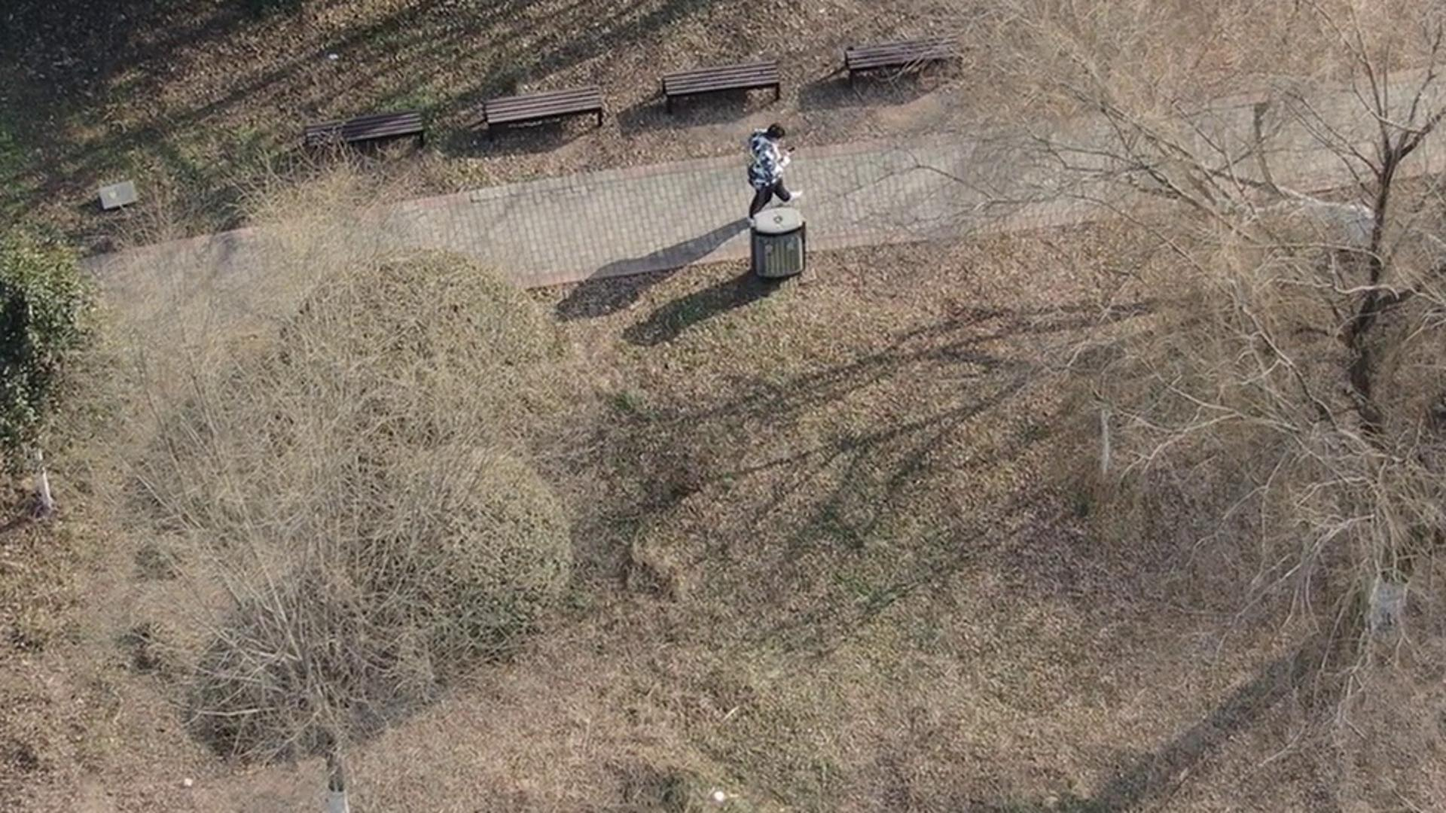human: (741, 132, 804, 250)
